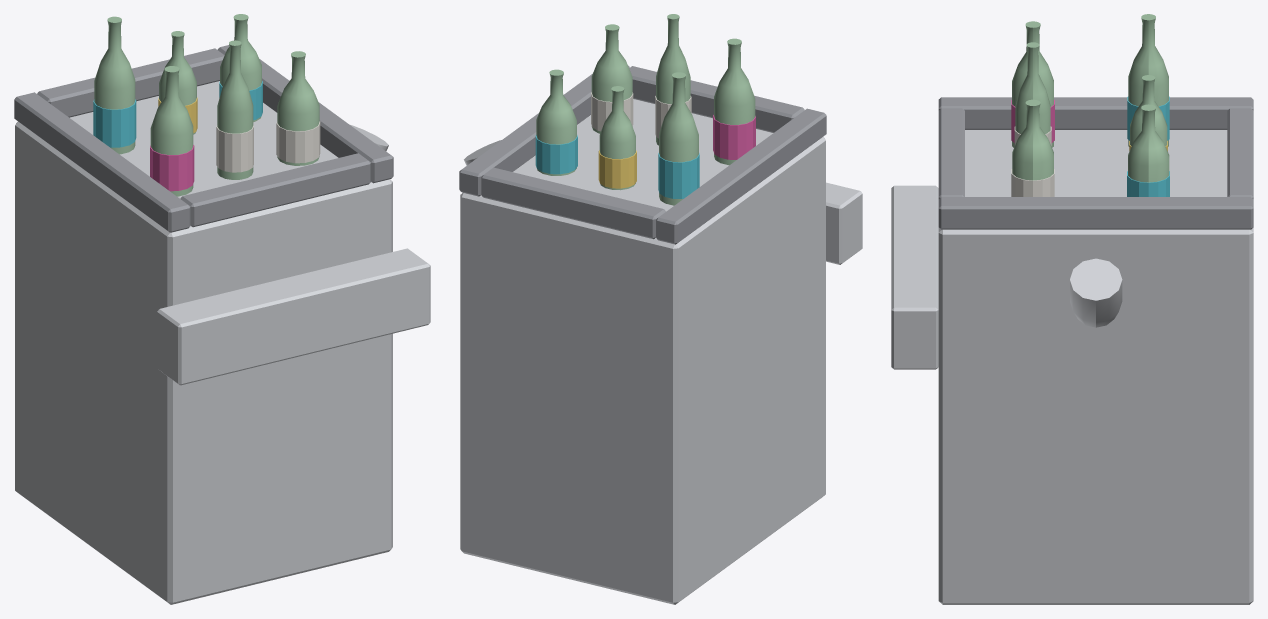
Rendered from nightclub-and-dj-booth-ice-well-ad227c5f__34121.glb.
The picture shows the model from 3 angles, left to right: view 1: azimuth 30°, elevation 25°; view 2: azimuth 150°, elevation 25°; view 3: azimuth 270°, elevation 25°; orthographic projection. The views are drawn at different scales.
Parts seen in each view (by area): view 1: ice-well; view 2: ice-well; view 3: ice-well.
Boxes of the visible parts, left/top/right/bottom form: ice-well: left=14, top=14, right=430, bottom=604; ice-well: left=459, top=14, right=862, bottom=604; ice-well: left=891, top=14, right=1253, bottom=604.
Bounding box in the file's own units: 0.6818 × 1.06 × 0.69.
